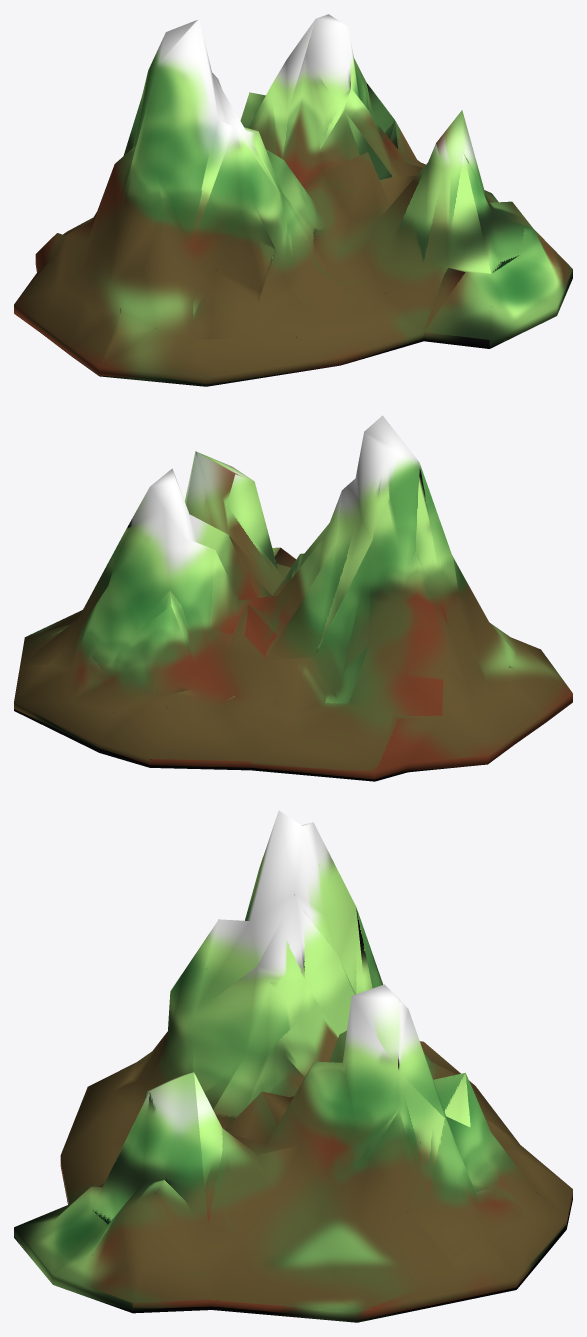
Rendered from Mountain.fbx.
The picture shows the model from 3 angles, top to bottom: view 1: azimuth 30°, elevation 25°; view 2: azimuth 150°, elevation 25°; view 3: azimuth 270°, elevation 25°; orthographic projection. The views are drawn at different scales.
Parts seen in each view (by area): view 1: Mountain; view 2: Mountain; view 3: Mountain.
Part boxes in pixels (<box>): Mountain: <box>14,14,572,386</box>; Mountain: <box>14,415,572,781</box>; Mountain: <box>14,810,572,1322</box>.
Size of the model in its own units: 8603 by 4998 by 7679.
